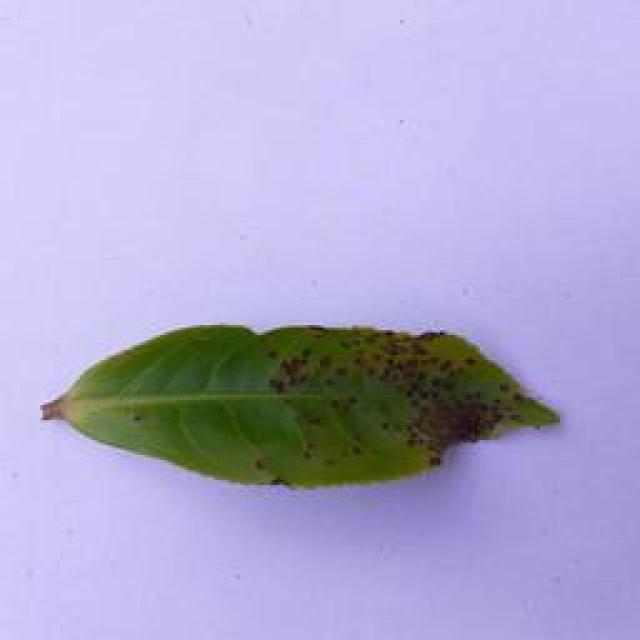Helopeltis: (33, 310, 570, 499)
